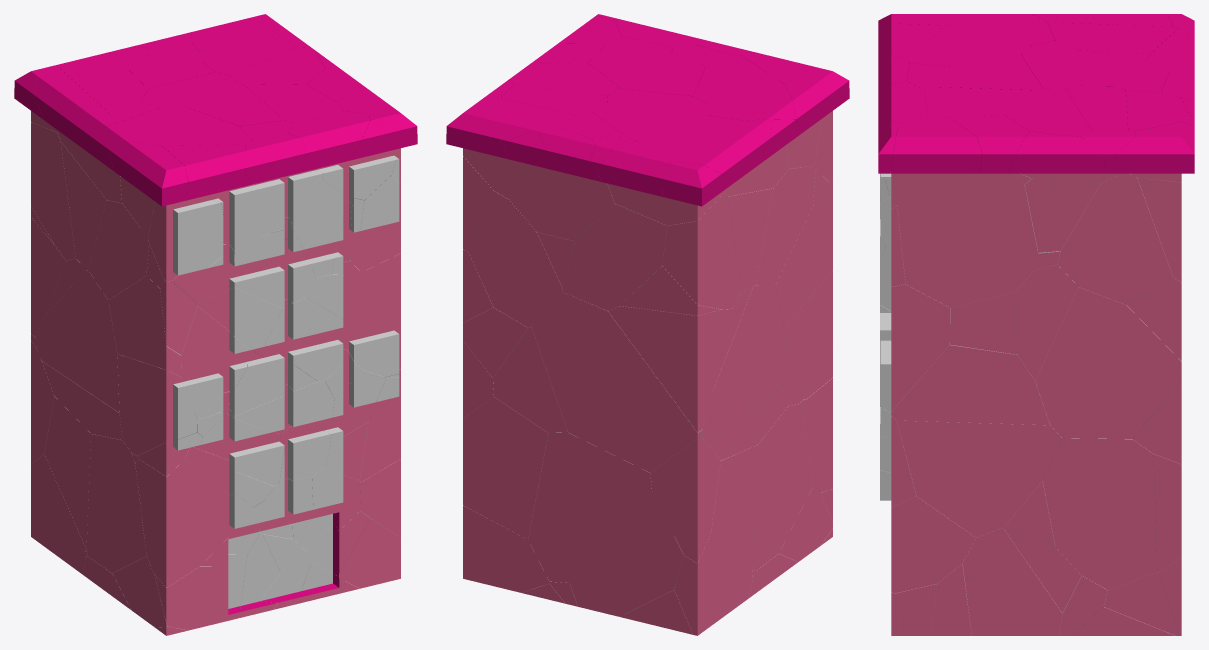
File: PurpleBuildingBroken.fbx
The picture shows the model from 3 angles, left to right: view 1: azimuth 30°, elevation 25°; view 2: azimuth 150°, elevation 25°; view 3: azimuth 270°, elevation 25°; orthographic projection. The views are drawn at different scales.
Parts seen in each view (by area): view 1: Cube.001_cell.060, Cube.001_cell.012, Cube.001_cell.056, Cube.001_cell.005, Cube.001_cell.090, Cube.001_cell.071, Cube.001_cell.063, Cube.001_cell.092, Cube.001_cell.044, Cube.001_cell.033, Cube.001_cell.054, Cube.002_cell.003 (+64 smaller); view 2: Cube.001_cell.002, Cube.001_cell.006, Cube.001_cell.084, Cube.001_cell.104, Cube.001_cell.042, Cube.001_cell.039, Cube.001_cell.003, Cube.001_cell.012, Cube.001_cell.056, Cube.001_cell.059, Cube.001_cell.023, Cube.001_cell.097 (+50 smaller); view 3: Cube.001_cell.004, Cube.001_cell.088, Cube.001_cell.053, Cube.001_cell.080, Cube.001_cell.039, Cube.001_cell.116, Cube.001_cell.043, Cube.001_cell.090, Cube.001_cell.066, Cube.002_cell.003, Cube.002_cell.023, Cube.001_cell.032 (+43 smaller).
Boxes of the visible parts, x1,y1,x2,y2 form: Cube.001_cell.060: [135, 459, 255, 587]; Cube.001_cell.012: [36, 269, 119, 412]; Cube.001_cell.056: [86, 434, 146, 573]; Cube.001_cell.005: [117, 354, 197, 455]; Cube.001_cell.090: [343, 253, 400, 377]; Cube.001_cell.071: [148, 195, 223, 281]; Cube.001_cell.063: [181, 306, 253, 419]; Cube.001_cell.092: [253, 297, 345, 381]; Cube.001_cell.044: [154, 554, 247, 630]; Cube.001_cell.033: [234, 229, 316, 308]; Cube.001_cell.054: [108, 276, 181, 377]; Cube.002_cell.003: [102, 106, 251, 149]; Cube.001_cell.002: [532, 292, 702, 472]; Cube.001_cell.006: [528, 432, 651, 582]; Cube.001_cell.084: [463, 396, 548, 539]; Cube.001_cell.104: [570, 492, 683, 616]; Cube.001_cell.042: [608, 306, 732, 432]; Cube.001_cell.039: [468, 191, 562, 327]; Cube.001_cell.003: [562, 204, 666, 310]; Cube.001_cell.012: [702, 286, 785, 443]; Cube.001_cell.056: [753, 404, 812, 571]; Cube.001_cell.059: [662, 193, 742, 309]; Cube.001_cell.023: [650, 438, 720, 563]; Cube.001_cell.097: [509, 164, 614, 241]; Cube.001_cell.004: [1035, 287, 1181, 438]; Cube.001_cell.088: [897, 173, 1037, 307]; Cube.001_cell.053: [1043, 438, 1157, 590]; Cube.001_cell.080: [897, 420, 1061, 537]; Cube.001_cell.039: [1057, 173, 1173, 304]; Cube.001_cell.116: [886, 345, 1049, 425]; Cube.001_cell.043: [962, 527, 1062, 635]; Cube.001_cell.090: [880, 284, 950, 410]; Cube.001_cell.066: [891, 496, 975, 593]; Cube.002_cell.003: [905, 14, 1031, 66]; Cube.002_cell.023: [890, 115, 982, 173]; Cube.001_cell.032: [1015, 265, 1078, 380].
Size of the model in its own units: 528 by 919 by 528.
